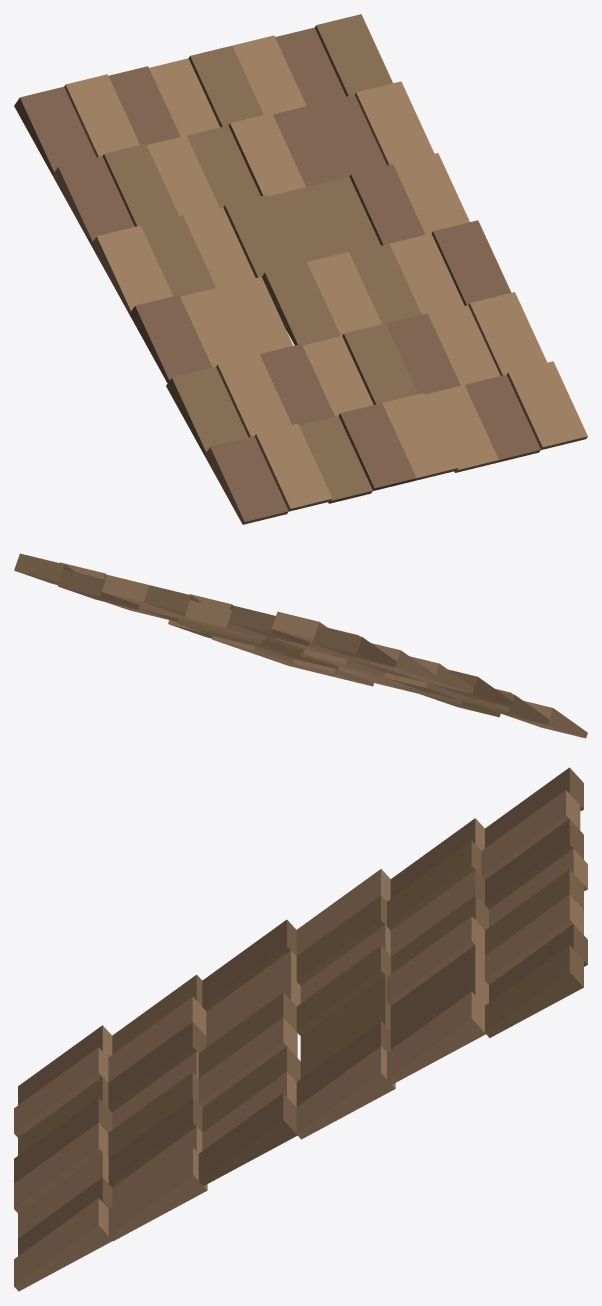
The model's file is fantasy_roof_tile_1.fbx.
The picture shows the model from 3 angles, top to bottom: view 1: azimuth 30°, elevation 25°; view 2: azimuth 150°, elevation 25°; view 3: azimuth 270°, elevation 25°; orthographic projection. The views are drawn at different scales.
Parts seen in each view (by area): view 1: Cube.043; view 2: Cube.043; view 3: Cube.043.
Boxes of the visible parts, bbox=[...] form: Cube.043: bbox=[14, 14, 587, 524]; Cube.043: bbox=[14, 553, 587, 738]; Cube.043: bbox=[14, 767, 587, 1291].
Size of the model in its own units: 301 by 225 by 357.
